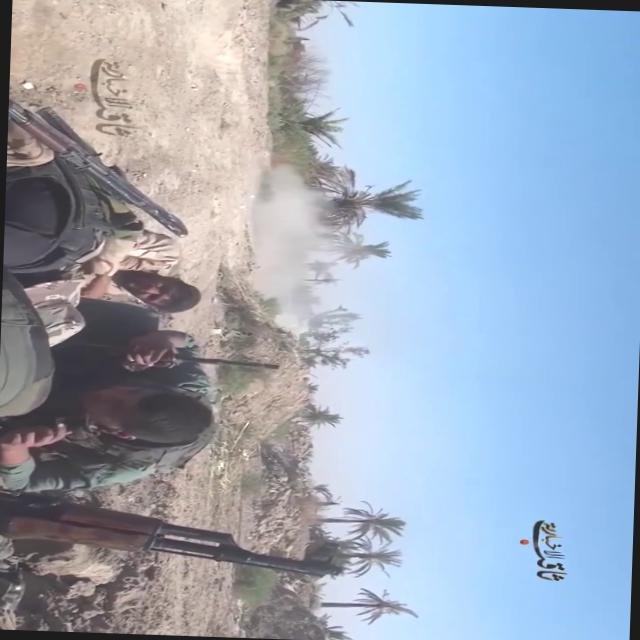long weapon: (0, 487, 366, 587), (49, 331, 324, 389)
